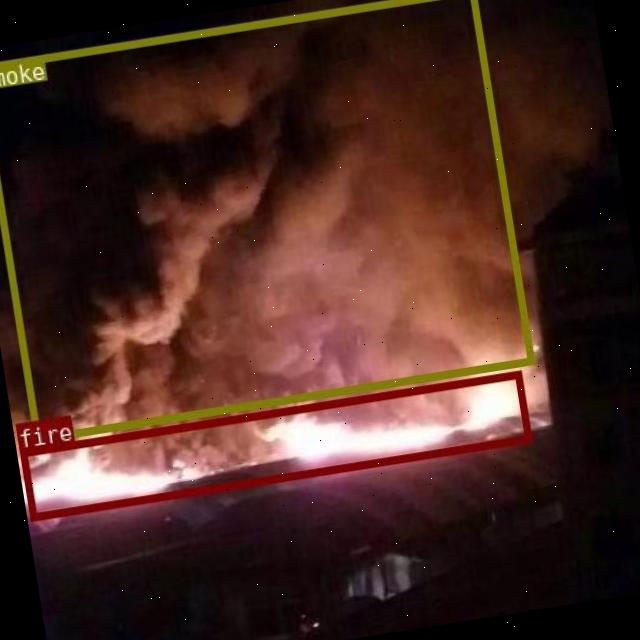fire: (18, 370, 530, 520)
smoke: (0, 0, 533, 442)
